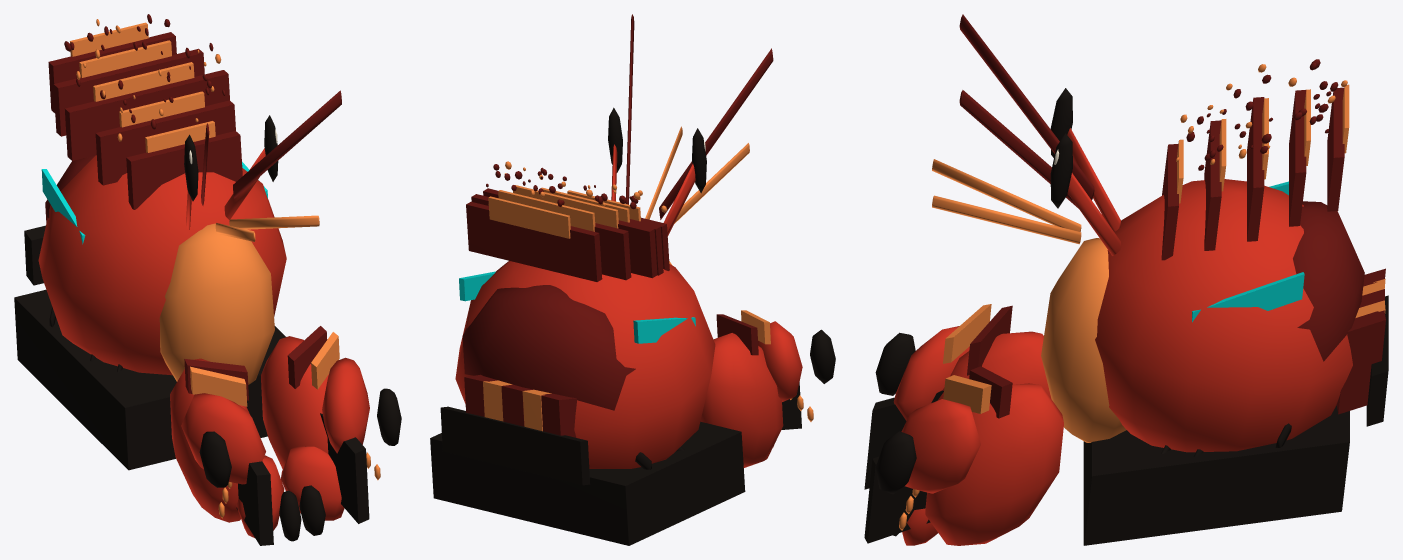
The model's file is fallback_snap_back_v13_REAL_FRONT_CLAWS_LOCKED_SIZE.obj.
The picture shows the model from 3 angles, left to right: view 1: azimuth 30°, elevation 25°; view 2: azimuth 150°, elevation 25°; view 3: azimuth 270°, elevation 25°; orthographic projection. The views are drawn at different scales.
Visible parts, largest first — view 1: SnapBack_v13_REAL_FRONT_CLAWS_Handle; view 2: SnapBack_v13_REAL_FRONT_CLAWS_Handle; view 3: SnapBack_v13_REAL_FRONT_CLAWS_Handle.
Boxes of the visible parts, box(x1,y1,x2,y2) form: SnapBack_v13_REAL_FRONT_CLAWS_Handle: box(14, 14, 401, 545); SnapBack_v13_REAL_FRONT_CLAWS_Handle: box(430, 14, 835, 545); SnapBack_v13_REAL_FRONT_CLAWS_Handle: box(864, 14, 1388, 545).
Bounding box in the file's own units: 0.00936 × 0.0173 × 0.0172.
1 material, 1 textured.
